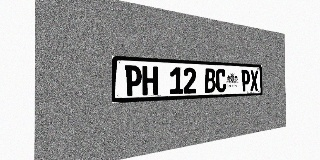1: (170, 67, 183, 94)
2: (184, 67, 196, 94)
B: (204, 68, 216, 93)
C: (216, 69, 226, 92)
H: (142, 66, 158, 95)
P: (125, 65, 142, 96), (241, 70, 250, 91)
X: (250, 70, 258, 91)
